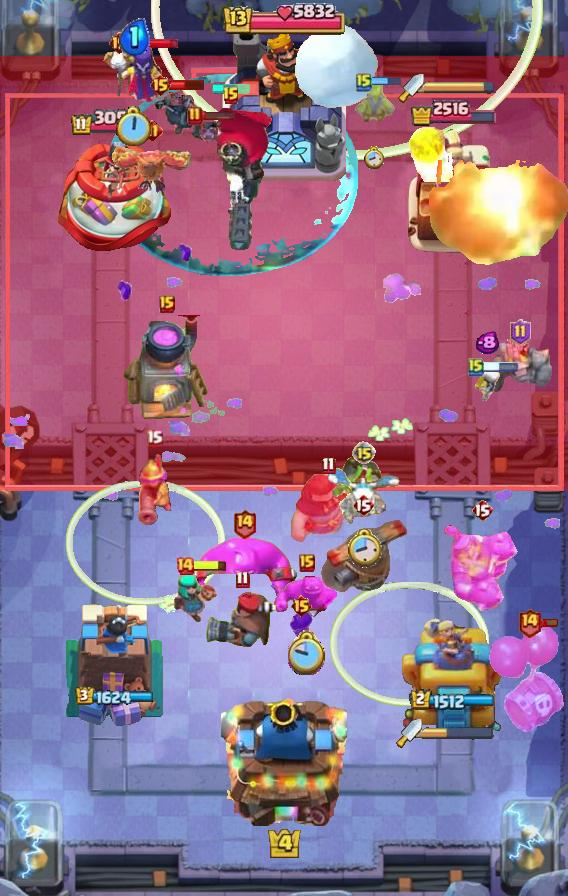axe: (100, 43, 168, 105)
bar: (403, 124, 503, 256), (402, 615, 507, 731)
bar-level: (330, 455, 384, 503)
barbarian-barrel: (197, 120, 221, 144)
battle-ram: (152, 85, 198, 139)
bomb-tower: (134, 450, 174, 526)
clock: (221, 0, 347, 40)
clone: (188, 537, 300, 603)
dark-prince: (316, 511, 410, 593)
electro-spirit: (118, 18, 150, 56), (475, 331, 499, 355)
elixir: (288, 630, 327, 675), (115, 106, 152, 149), (346, 529, 382, 569), (364, 145, 385, 169)
emote: (129, 37, 180, 50), (170, 77, 207, 91), (192, 559, 228, 572), (201, 110, 236, 121), (481, 362, 519, 372), (370, 77, 402, 88), (539, 616, 559, 627)
goblin: (286, 608, 316, 648)
golden-knight: (111, 145, 193, 195)
heal-spirit: (474, 367, 500, 403)
hunter: (122, 315, 212, 423)
ice-spirit: (211, 84, 251, 94)
inferno-tower: (187, 105, 275, 251)
king-tower: (222, 31, 346, 181), (221, 690, 347, 826)
king-tower-bar: (424, 80, 496, 94), (422, 726, 494, 740)
mini-pekka: (324, 466, 404, 528)
pad_0: (104, 74, 358, 280)
phoenix-small: (203, 589, 281, 649)
queen-tower: (51, 137, 177, 255), (61, 599, 166, 731)
royal-guardian: (443, 524, 521, 614)
royal-hog: (286, 471, 370, 547)
royal-recruit-evolution: (488, 622, 568, 736)
selected: (69, 109, 158, 137), (409, 98, 497, 126), (412, 689, 497, 711), (74, 686, 154, 706)
text: (231, 508, 256, 539), (518, 606, 543, 637), (352, 441, 376, 465), (509, 319, 531, 345), (109, 31, 132, 55), (148, 73, 171, 97), (290, 594, 313, 618), (352, 493, 374, 517), (471, 498, 493, 522), (142, 119, 163, 140), (175, 556, 195, 576), (222, 86, 240, 106), (146, 428, 163, 447), (356, 72, 372, 92), (187, 106, 203, 126), (468, 357, 484, 377), (159, 295, 175, 313), (299, 554, 315, 572), (234, 570, 249, 589), (321, 456, 335, 475)
tornado: (272, 568, 342, 626)
valkyrie: (424, 160, 567, 282), (405, 126, 453, 182)
valkyrie-evolution: (487, 339, 553, 399)
wall-breaker: (294, 23, 380, 110)
witch: (172, 571, 218, 625)
zap: (351, 85, 395, 127)
